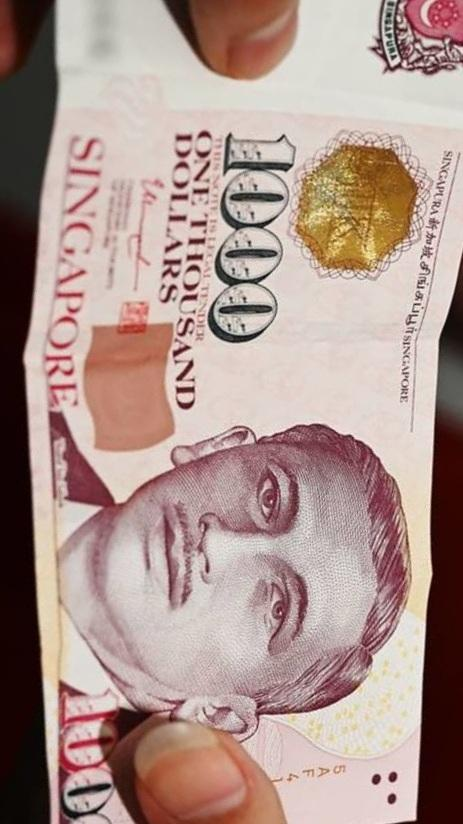1000SingaporeDollar: (50, 0, 417, 824)
